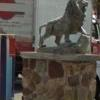Statue: (29, 5, 95, 49)
